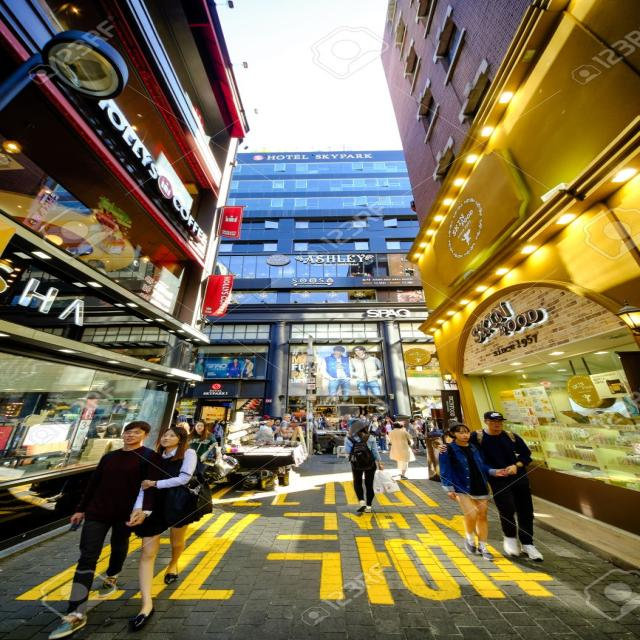body: (45, 418, 166, 639), (123, 424, 216, 633), (436, 410, 545, 562), (435, 422, 514, 562), (343, 419, 402, 514), (316, 343, 384, 393), (185, 419, 219, 478), (384, 420, 417, 480), (99, 398, 129, 438), (300, 418, 324, 456), (226, 356, 255, 379), (420, 417, 439, 452), (409, 417, 428, 451), (258, 417, 282, 442), (324, 413, 340, 446), (407, 418, 422, 453), (278, 413, 295, 440), (212, 419, 228, 447), (85, 258, 107, 276), (377, 420, 388, 454), (270, 418, 282, 442), (415, 415, 427, 435), (367, 416, 379, 436), (356, 414, 368, 434), (288, 404, 308, 414), (289, 416, 302, 430), (384, 416, 394, 434), (176, 422, 191, 434), (348, 413, 359, 428), (339, 415, 348, 430), (258, 414, 269, 424), (379, 415, 389, 425), (213, 420, 220, 434), (315, 414, 323, 426), (364, 418, 372, 428), (243, 416, 253, 424), (344, 413, 352, 421), (325, 408, 333, 414), (351, 413, 358, 418), (249, 416, 256, 421)
